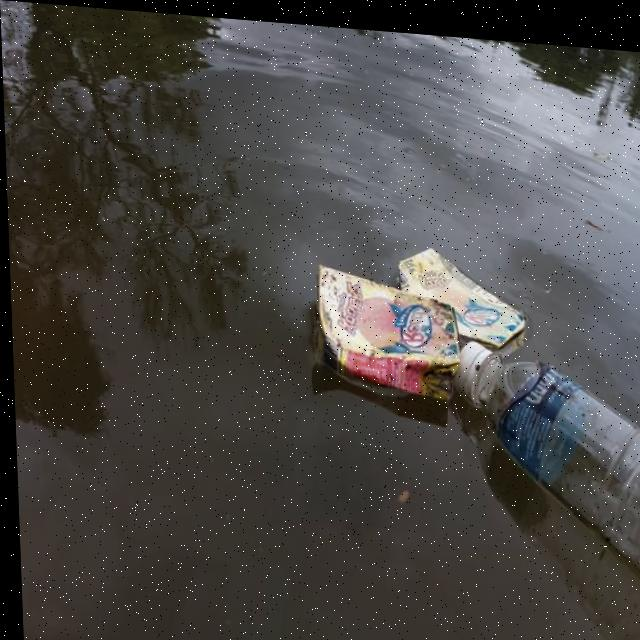paper: (293, 252, 465, 437), (387, 206, 572, 353)
waterbottle: (443, 322, 640, 640)
